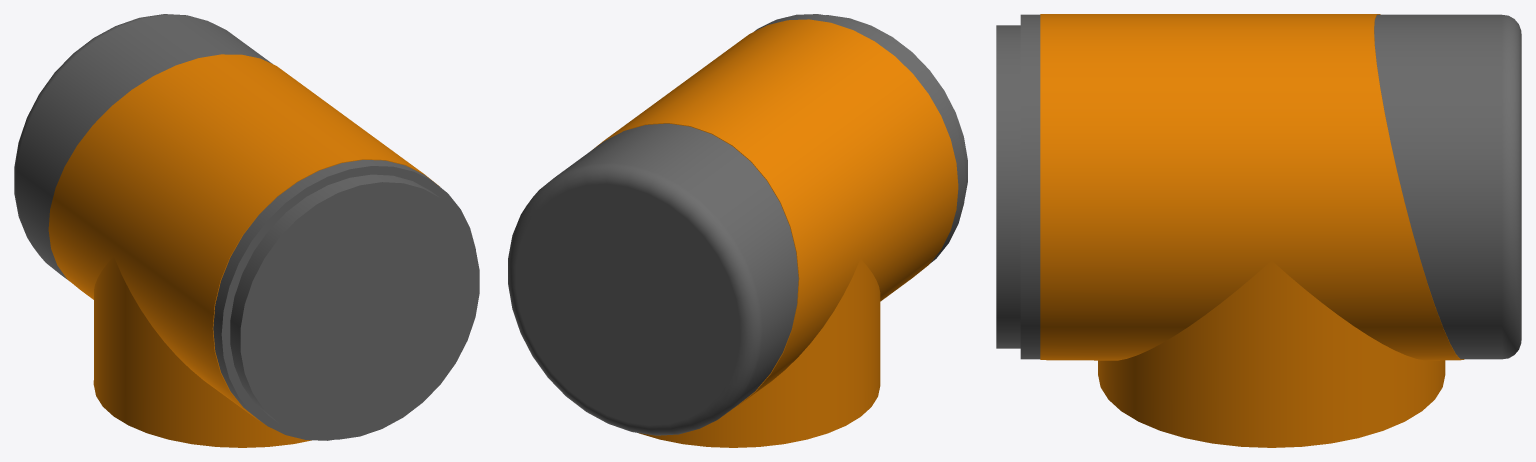
The picture shows the model from 3 angles, left to right: view 1: azimuth 30°, elevation 25°; view 2: azimuth 150°, elevation 25°; view 3: azimuth 270°, elevation 25°; orthographic projection. The views are drawn at different scales.
Parts seen in each view (by area): view 1: NONE; view 2: NONE; view 3: NONE.
Part boxes in pixels (x1,y1,x2,y2): NONE: [14, 14, 479, 447]; NONE: [508, 14, 967, 447]; NONE: [996, 14, 1521, 447].
Bounding box in the file's own units: 0.089 × 0.1345 × 0.0975.
